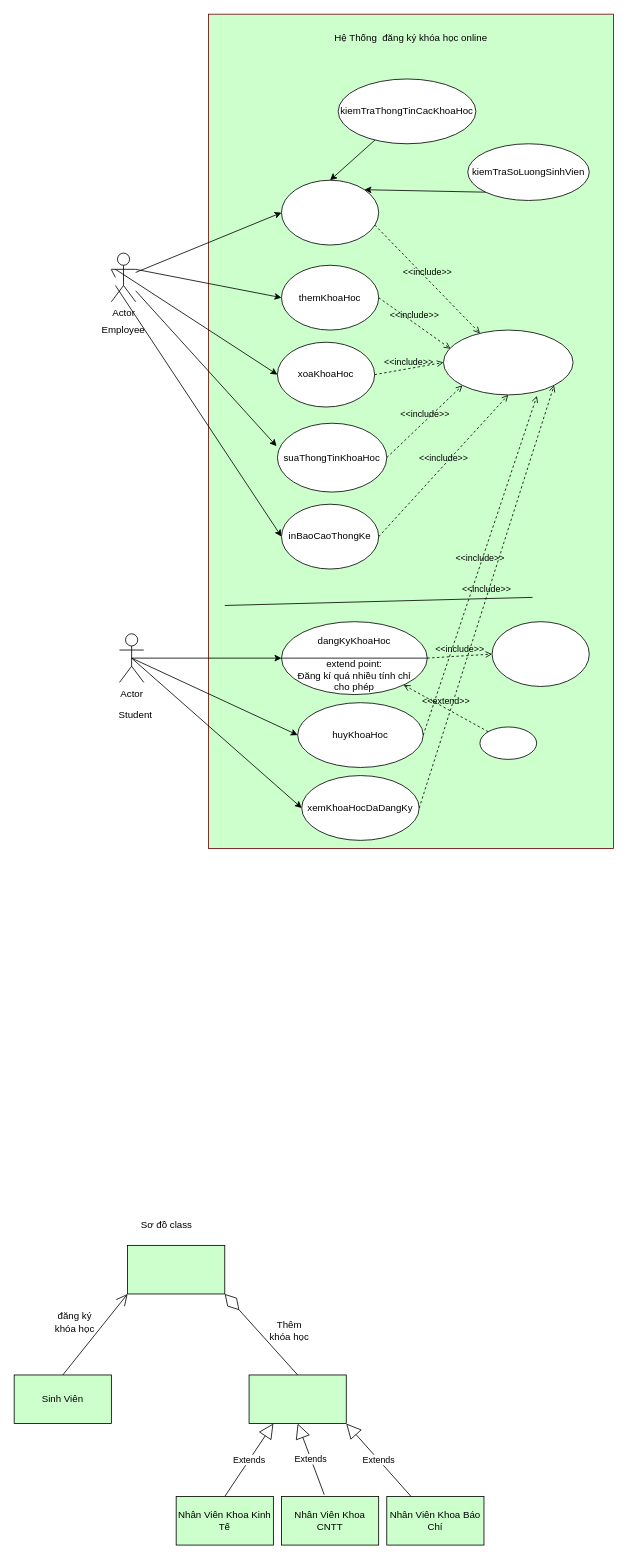
Image size: 628x1559. Some labels were removed from this diagram. Here are the shapes that lost their labels. From the top down, the box of each, then its label:
(281, 179, 379, 245): kiemTraThongTin
(443, 329, 573, 395): dangNhap
(491, 621, 589, 686): Đăng Ký Mã SV
(479, 726, 537, 759): canhBao
(127, 1245, 225, 1294): Hệ Thống
(248, 1374, 346, 1424): Nhân Viên
